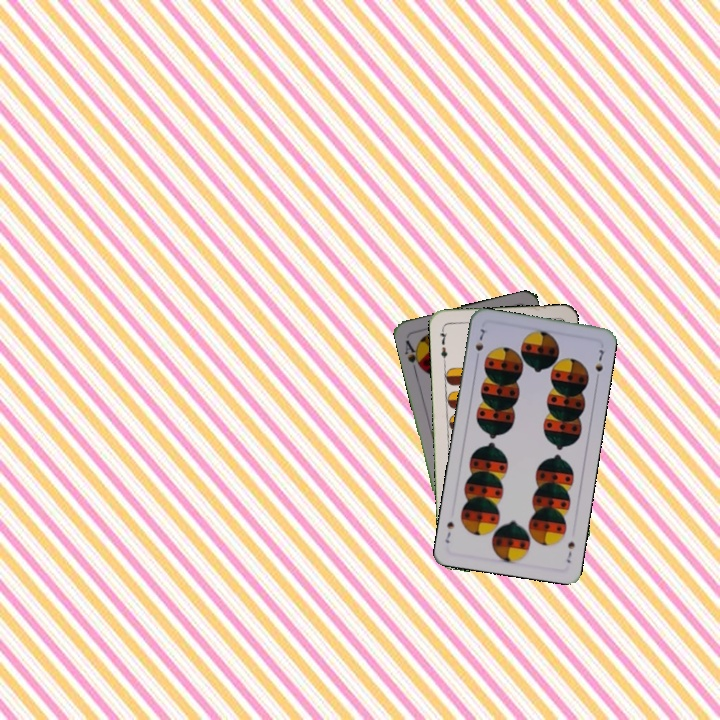E7: (435, 324, 450, 365)
S7: (471, 325, 487, 363), (562, 537, 577, 565)
SA: (401, 336, 425, 373)
